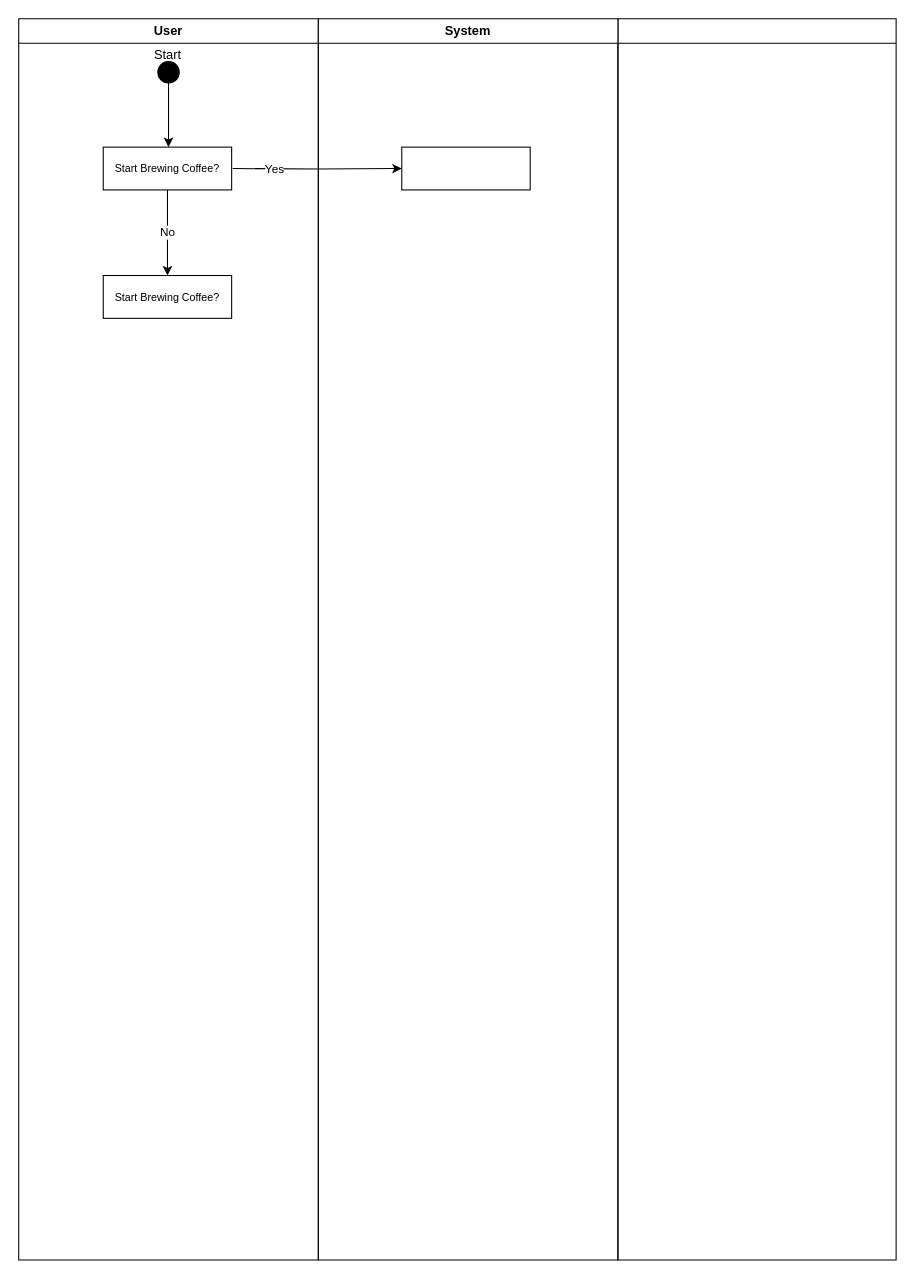
Image size: 915x1279. Some labels were removed from this diagram. Each missing label, with the centre of its shape:
Database: the point at 756,639
Event Started: the point at 465,168
